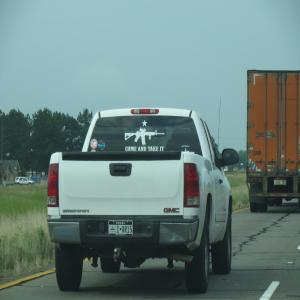Vehicle-registration-plate: (109, 219, 134, 237)
